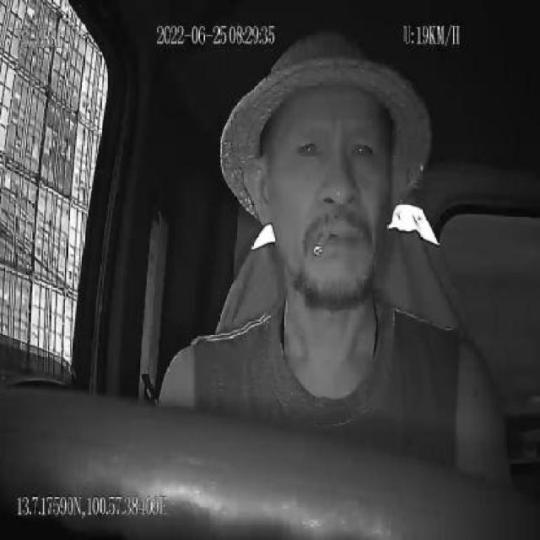smoking: (313, 227, 332, 256)
